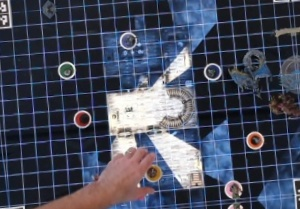blue: (200, 59, 221, 83)
green: (54, 58, 77, 81)
orange: (240, 126, 266, 151)
pink: (220, 177, 243, 199)
red: (71, 109, 91, 128)
violet: (117, 29, 140, 49)
yellow: (140, 162, 162, 183)
